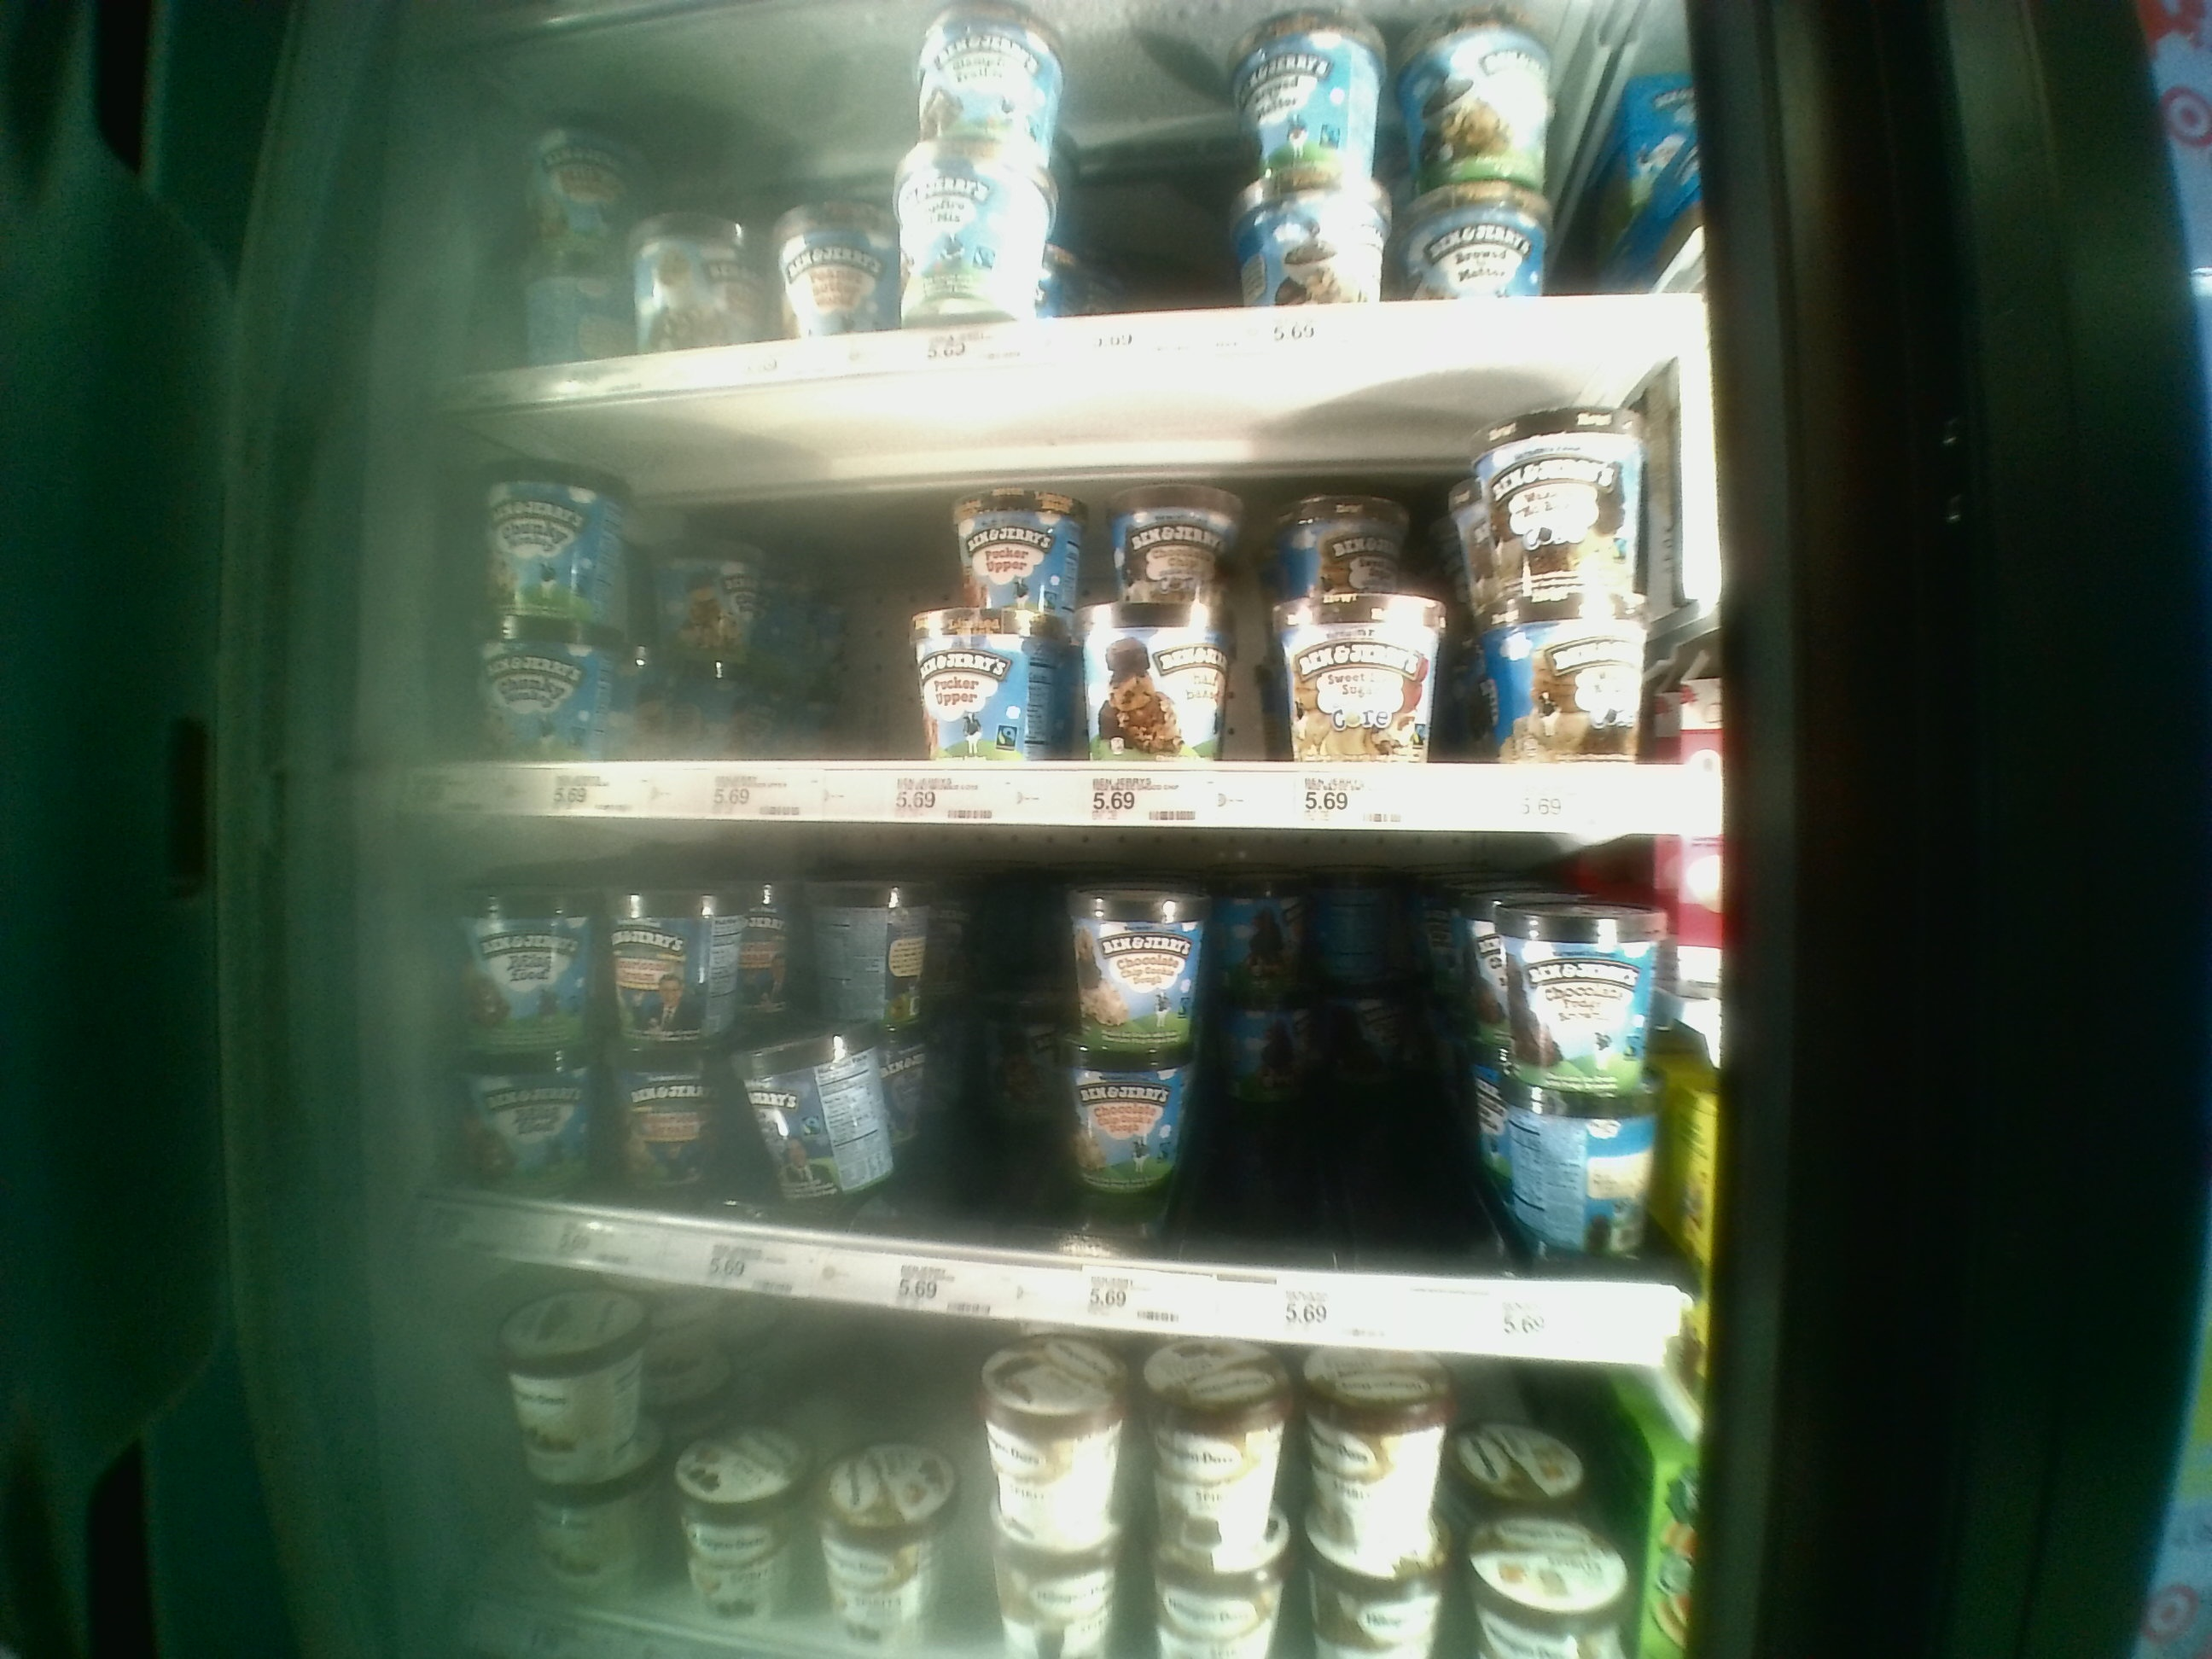shelf: (406, 836, 1677, 1361), (381, 408, 1712, 829)
